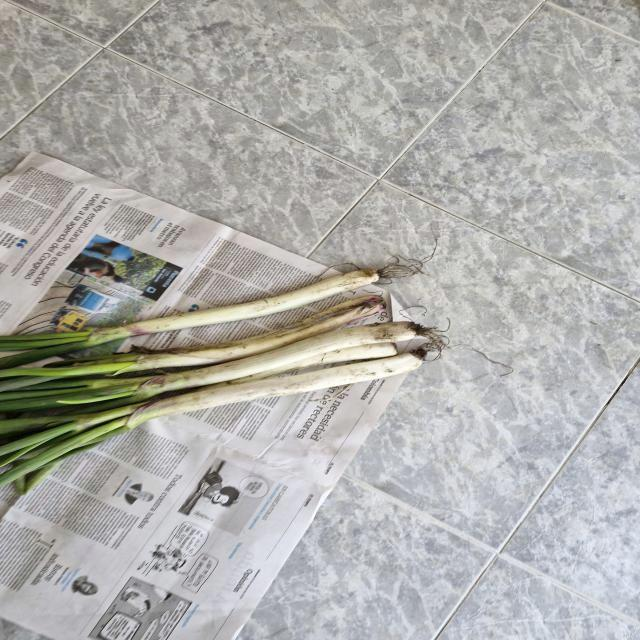green_onion: (0, 333, 439, 525), (0, 265, 400, 386)
